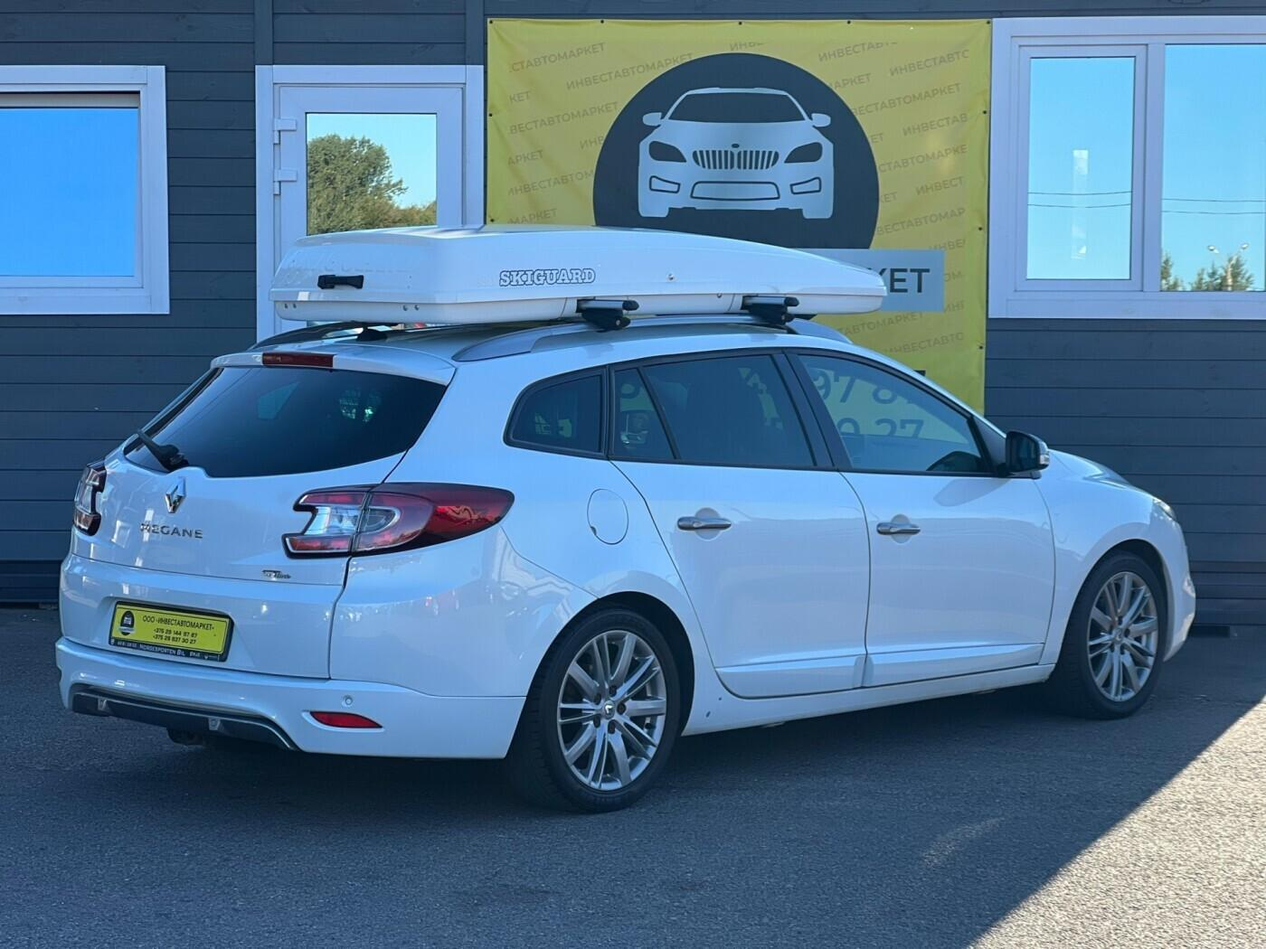Megane_2012-2014: (44, 320, 1200, 798)
